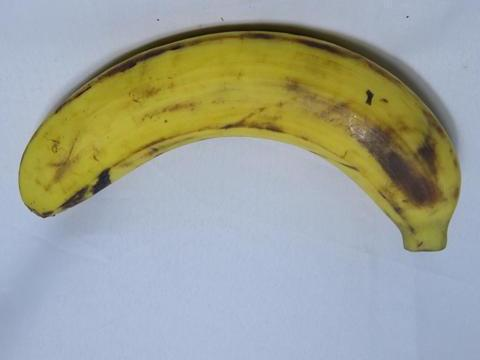overripe: (11, 21, 468, 256)
